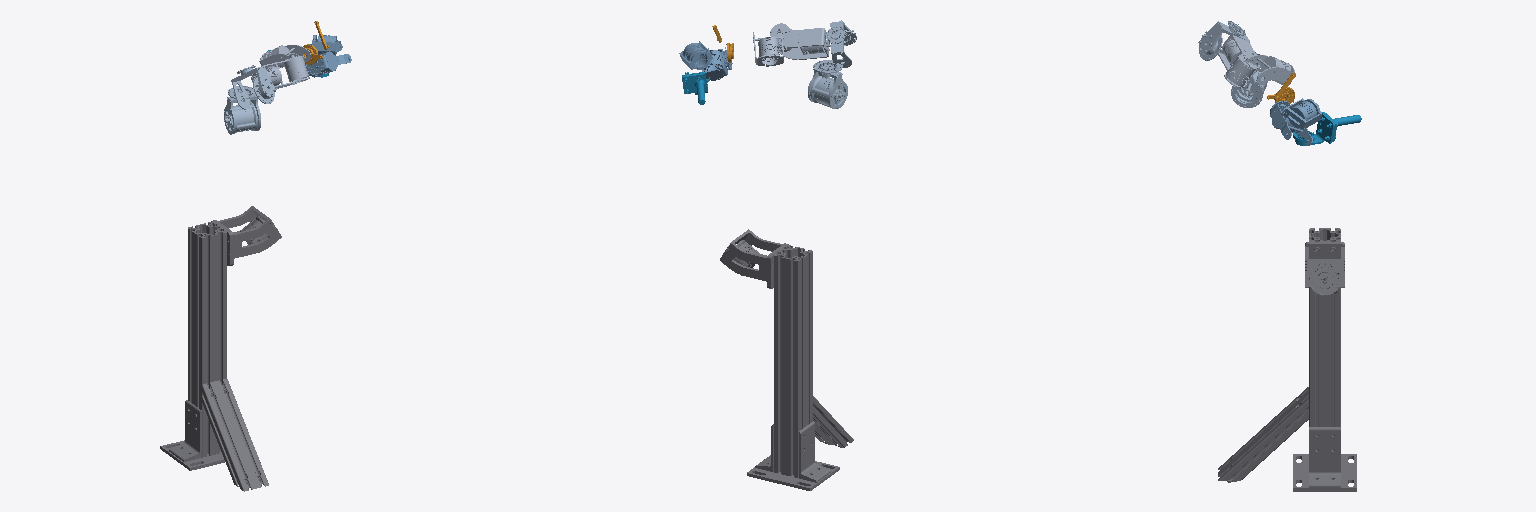
robot.urdf — arm01:
<?xml version="1.0"?>
<!--
================================================================================
arm01 design ledger
================================================================================
Robot      arm01: the 7-DOF MyActuator EtherCAT arm under test (right arm on a
           post stand).
Source     The CAD team's `full_assembly_urdf` export (14 Nov 2026, Onshape
           capture f7727994091b4cb0be86ce6f, audited inertials and harness),
           converted by tools/cad/import_full_assembly.py: renamed, re-based,
           tool frames added. Geometry, joint senses, zeros, limits and
           inertials are the export's. Regenerate with that script; do not
           hand-edit.
Consumers  Pinocchio (arm_stack model, sim, fits), robot_state_publisher /
           RViz, ros2_control (urdf/arm01/arm01.ros2_control.xacro), Isaac Lab
           (PACE, via `arm export pace`).
Units      metres, kilograms, radians. Meshes are binary STL in metres, one per
           link, in the link frame.

Names (export -> here)
  J1 shoulder_pitch, J2 shoulder_roll, J3 shoulder_yaw, J4 elbow,
  J5 forearm_yaw, output_pivot wrist_pitch, J7 wrist_yaw;
  J6 wrist_crank_joint and coupler_hinge wrist_rod_joint (mimics, below).
  shoulder_flexion link1, shoulder_abduction link2, upper_arm link3,
  forearm link4, wrist_base link5, wrist_output link6, tool_link link7,
  input_crank wrist_crank, coupler wrist_rod.

Frames
  base_link  origin at the top centre of the stand's post, CAD (0, 0, 541) mm;
             x forward (CAD -y), y to the robot's left (CAD +x), z up. The
             export's base is the CAD frame; the J1 origin and base_link's
             visual and inertial carry base = Rz(90 deg) (cad - [0 0 0.541]).
  linkN      the export's frames: z is joint N's axis.
  flange     J7 output face centre on the J7 axis, z out of the face toward
             the tool, x toward the peg.
  tool0      centre of the peg's end face (Ø20 mm PLA peg), z out of the tip,
             x perpendicular to the peg and the J7 axis. Fitted to the link7
             mesh.

Zero pose  The export's: q = 0 closes the wrist loop. The CAD capture is
           J1 80.80, J2 0.00, J3 3.30, J4 19.71, J5 -95.00, J6 28.04,
           J7 2.05 deg. The export maps its Onshape mate angles to these
           coordinates (sign, offset: J2 -1, J3 +3.911 deg, J4 -1 / -8.919
           deg); they are NOT encoder readings. `arm zero` and the zeroing jig
           set the encoder zeros, `arm bringup` the signs (joint config
           `direction`). Keep J1/J2 unwrapped through 180 deg.

Wrist      J6 turns a near-parallelogram (crank 41.75, coupler 70.0, ground
           69.89 mm): output / crank = 0.996..1.004 over +-35 deg. wrist_pitch
           is the output pivot, driven 1:1 by the J6 actuator here (error
           about 0.15 deg at the ends of travel); the crank and coupler are
           mimic joints of it (+1 / -1). Pinocchio locks the mimics and merges
           their 30 g into link5. The export's model.py has the exact loop.

Limits     The export's operating ranges: J1 [-90, 180], J2 [0, 190],
           J3 +-90, J4 [0, 130], J5 +-90, J6 +-35, J7 +-90 deg. They are not
           certified hardware stops: J1's stops are unverified, J2's lower
           contact is at -0.12 deg, J6's at -35.09 / +35.04 deg. Effort and
           velocity are the datasheet rated values. Stage 3 (`arm limits`)
           finds the hard stops and writes soft limits into the calibration
           file, not here.

Inertials  The export's audited model: 5052 sheet, 6061 billet, steel hardware,
           PLA peg (solid, 72 g), provisional actuator masses (X6 0.78, X4-36
           0.36, X4-10 0.33 kg), and a 178 g harness estimate. Moving mass
           3.918 kg. Weighed masses go in config/arms/arm01.yaml
           `link_masses_kg`; stage 5 fits each link's COM. base_link's
           inertial (fixture) is unused.

Geometry   visual = collision = the link's STL.
================================================================================
-->
<robot name="arm01">
  <link name="base_link">
    <inertial>
      <origin xyz="-0.0209881104 -0.0249459611 -0.3516912" rpy="0 -0 0" />
      <mass value="8.48834449972315" />
      <inertia ixx="0.507382807" ixy="0.00441255157" ixz="-0.0415048934" iyy="0.506022808" iyz="0.0643106163" izz="0.0659746181" />
    </inertial>
    <visual>
      <origin xyz="0 0 -0.541" rpy="0 -0 1.57079633" />
      <geometry>
        <mesh filename="package://wisco_ethercat_ros2_hw/urdf/arm01/meshes/base_link.stl" />
      </geometry>
      <material name="base_link_color">
        <color rgba="0.5 0.5 0.53 1" />
      </material>
    </visual>
    <collision>
      <origin xyz="0 0 -0.541" rpy="0 -0 1.57079633" />
      <geometry>
        <mesh filename="package://wisco_ethercat_ros2_hw/urdf/arm01/meshes/base_link.stl" />
      </geometry>
    </collision>
  </link>
  <link name="link1">
    <inertial>
      <origin xyz="6.28193363739031e-05 -0.000510001541366573 -0.0627447017792746" rpy="0 0 0" />
      <mass value="1.03954034843141" />
      <inertia ixx="0.00126854255312548" ixy="3.05291278326572e-06" ixz="7.55125566470251e-07" iyy="0.00115560047771092" iyz="-5.70812069926037e-06" izz="0.000911747596788102" />
    </inertial>
    <visual>
      <origin xyz="0 0 0" rpy="0 0 0" />
      <geometry>
        <mesh filename="package://wisco_ethercat_ros2_hw/urdf/arm01/meshes/link1.stl" />
      </geometry>
      <material name="link1_color">
        <color rgba="0.65 0.72 0.8 1" />
      </material>
    </visual>
    <collision>
      <origin xyz="0 0 0" rpy="0 0 0" />
      <geometry>
        <mesh filename="package://wisco_ethercat_ros2_hw/urdf/arm01/meshes/link1.stl" />
      </geometry>
    </collision>
  </link>
  <link name="link2">
    <inertial>
      <origin xyz="8.40187522635814e-05 0.0289708130780038 -0.020210697162382" rpy="0 0 0" />
      <mass value="0.224638262500978" />
      <inertia ixx="0.000456475944180333" ixy="4.44260229119375e-07" ixz="-2.7706406188814e-07" iyy="0.000300259134907002" iyz="7.9006691122891e-05" izz="0.000224319387305477" />
    </inertial>
    <visual>
      <origin xyz="0 0 0" rpy="0 0 0" />
      <geometry>
        <mesh filename="package://wisco_ethercat_ros2_hw/urdf/arm01/meshes/link2.stl" />
      </geometry>
      <material name="link2_color">
        <color rgba="0.65 0.72 0.8 1" />
      </material>
    </visual>
    <collision>
      <origin xyz="0 0 0" rpy="0 0 0" />
      <geometry>
        <mesh filename="package://wisco_ethercat_ros2_hw/urdf/arm01/meshes/link2.stl" />
      </geometry>
    </collision>
  </link>
  <link name="link3">
    <inertial>
      <origin xyz="-0.000884860251041079 0.0123306139737281 -0.0753817522063616" rpy="0 0 0" />
      <mass value="0.955428515370027" />
      <inertia ixx="0.00259766559360135" ixy="2.3466014962175e-06" ixz="-4.07107954950693e-05" iyy="0.00258521461111198" iyz="0.000561982262328355" izz="0.000702966100318948" />
    </inertial>
    <visual>
      <origin xyz="0 0 0" rpy="0 0 0" />
      <geometry>
        <mesh filename="package://wisco_ethercat_ros2_hw/urdf/arm01/meshes/link3.stl" />
      </geometry>
      <material name="link3_color">
        <color rgba="0.68 0.73 0.8 1" />
      </material>
    </visual>
    <collision>
      <origin xyz="0 0 0" rpy="0 0 0" />
      <geometry>
        <mesh filename="package://wisco_ethercat_ros2_hw/urdf/arm01/meshes/link3.stl" />
      </geometry>
    </collision>
  </link>
  <link name="link4">
    <inertial>
      <origin xyz="0.025003990750778 0.0555249203142339 -0.0308501339841859" rpy="0 0 0" />
      <mass value="0.506322819610221" />
      <inertia ixx="0.000524712049443047" ixy="-6.32790707470935e-05" ixz="1.49420144284315e-05" iyy="0.000314515071861158" iyz="3.19308009244638e-05" izz="0.000432180418077225" />
    </inertial>
    <visual>
      <origin xyz="0 0 0" rpy="0 0 0" />
      <geometry>
        <mesh filename="package://wisco_ethercat_ros2_hw/urdf/arm01/meshes/link4.stl" />
      </geometry>
      <material name="link4_color">
        <color rgba="0.68 0.73 0.8 1" />
      </material>
    </visual>
    <collision>
      <origin xyz="0 0 0" rpy="0 0 0" />
      <geometry>
        <mesh filename="package://wisco_ethercat_ros2_hw/urdf/arm01/meshes/link4.stl" />
      </geometry>
    </collision>
  </link>
  <link name="link5">
    <inertial>
      <origin xyz="-0.00300480967441928 -0.000442759553258613 -0.0372032297307027" rpy="0 0 0" />
      <mass value="0.487429133738675" />
      <inertia ixx="0.000315862616675246" ixy="-6.20850229960958e-06" ixz="-1.16338046149474e-05" iyy="0.000423183155760322" iyz="-6.22522109046e-08" izz="0.000263835038145093" />
    </inertial>
    <visual>
      <origin xyz="0 0 0" rpy="0 0 0" />
      <geometry>
        <mesh filename="package://wisco_ethercat_ros2_hw/urdf/arm01/meshes/link5.stl" />
      </geometry>
      <material name="link5_color">
        <color rgba="0.5 0.63 0.75 1" />
      </material>
    </visual>
    <collision>
      <origin xyz="0 0 0" rpy="0 0 0" />
      <geometry>
        <mesh filename="package://wisco_ethercat_ros2_hw/urdf/arm01/meshes/link5.stl" />
      </geometry>
    </collision>
  </link>
  <link name="wrist_crank">
    <inertial>
      <origin xyz="-0.00943964051682924 -6.77168358008667e-09 -0.00261924023607058" rpy="0 0 0" />
      <mass value="0.0142187791796307" />
      <inertia ixx="1.17393834304399e-06" ixy="-2.88802677271492e-12" ixz="-4.72976356126276e-09" iyy="4.46638597948988e-06" iyz="-4.2775810392593e-13" izz="5.57116929256228e-06" />
    </inertial>
    <visual>
      <origin xyz="0 0 0" rpy="0 0 0" />
      <geometry>
        <mesh filename="package://wisco_ethercat_ros2_hw/urdf/arm01/meshes/wrist_crank.stl" />
      </geometry>
      <material name="wrist_crank_color">
        <color rgba="0.85 0.6 0.24 1" />
      </material>
    </visual>
    <collision>
      <origin xyz="0 0 0" rpy="0 0 0" />
      <geometry>
        <mesh filename="package://wisco_ethercat_ros2_hw/urdf/arm01/meshes/wrist_crank.stl" />
      </geometry>
    </collision>
  </link>
  <link name="wrist_rod">
    <inertial>
      <origin xyz="0.0164044135483392 0.0309174043788142 -0.00306837268587808" rpy="0 0 0" />
      <mass value="0.0155711739254297" />
      <inertia ixx="9.1851100665474e-06" ixy="-4.77668200312659e-06" ixz="4.80077557867517e-12" iyy="2.71692989941013e-06" iyz="1.21734164600643e-11" izz="1.17825733794848e-05" />
    </inertial>
    <visual>
      <origin xyz="0 0 0" rpy="0 0 0" />
      <geometry>
        <mesh filename="package://wisco_ethercat_ros2_hw/urdf/arm01/meshes/wrist_rod.stl" />
      </geometry>
      <material name="wrist_rod_color">
        <color rgba="0.85 0.6 0.24 1" />
      </material>
    </visual>
    <collision>
      <origin xyz="0 0 0" rpy="0 0 0" />
      <geometry>
        <mesh filename="package://wisco_ethercat_ros2_hw/urdf/arm01/meshes/wrist_rod.stl" />
      </geometry>
    </collision>
  </link>
  <link name="link6">
    <inertial>
      <origin xyz="0.000709485579475247 -0.0010031677109319 0.0343378638717342" rpy="0 0 0" />
      <mass value="0.442574975466571" />
      <inertia ixx="0.000234683542219092" ixy="-3.24564112967087e-05" ixz="-2.88862442222168e-06" iyy="0.000259042968286654" iyz="-1.43324337717524e-06" izz="0.0002489360375543" />
    </inertial>
    <visual>
      <origin xyz="0 0 0" rpy="0 0 0" />
      <geometry>
        <mesh filename="package://wisco_ethercat_ros2_hw/urdf/arm01/meshes/link6.stl" />
      </geometry>
      <material name="link6_color">
        <color rgba="0.5 0.63 0.75 1" />
      </material>
    </visual>
    <collision>
      <origin xyz="0 0 0" rpy="0 0 0" />
      <geometry>
        <mesh filename="package://wisco_ethercat_ros2_hw/urdf/arm01/meshes/link6.stl" />
      </geometry>
    </collision>
  </link>
  <link name="link7">
    <inertial>
      <origin xyz="0.00867923115887527 0.0532843695444002 0.0175173922152606" rpy="0 0 0" />
      <mass value="0.231917717710317" />
      <inertia ixx="0.000417793921610081" ixy="-7.46815622461728e-06" ixz="-2.05312858297144e-05" iyy="0.000166432314133193" iyz="-0.000100101566329267" izz="0.000382581839170079" />
    </inertial>
    <visual>
      <origin xyz="0 0 0" rpy="0 0 0" />
      <geometry>
        <mesh filename="package://wisco_ethercat_ros2_hw/urdf/arm01/meshes/link7.stl" />
      </geometry>
      <material name="link7_color">
        <color rgba="0.18 0.58 0.75 1" />
      </material>
    </visual>
    <collision>
      <origin xyz="0 0 0" rpy="0 0 0" />
      <geometry>
        <mesh filename="package://wisco_ethercat_ros2_hw/urdf/arm01/meshes/link7.stl" />
      </geometry>
    </collision>
  </link>
  <joint name="shoulder_pitch" type="revolute">
    <parent link="base_link" />
    <child link="link1" />
    <origin xyz="-0.000156330126 -0.188873205 -0.0333247018" rpy="2.0943951 4.98352458e-15 -3.14159265" />
    <axis xyz="0 0 1" />
    <limit lower="-1.0471975511965976" upper="4.1887902047863905" effort="20" velocity="16.022122533307947" />
  </joint>
  <joint name="shoulder_roll" type="revolute">
    <parent link="link1" />
    <child link="link2" />
    <origin xyz="-4.07603069629836e-08 -0.0352502330739208 -0.0698001490458872" rpy="1.5707963267949 -1.0471975511966 -1.02880735442697e-15" />
    <axis xyz="0 0 1" />
    <limit lower="0.0" upper="3.3161255787892263" effort="20" velocity="16.022122533307947" />
  </joint>
  <joint name="shoulder_yaw" type="revolute">
    <parent link="link2" />
    <child link="link3" />
    <origin xyz="1.2839831583511e-06 0.066000292767543 -0.0353065721306212" rpy="-1.5707963267949 -0.0682598270454991 -3.14159265358979" />
    <axis xyz="0 0 1" />
    <limit lower="-1.5707963267948966" upper="1.5707963267948966" effort="10.5" velocity="8.691739674931762" />
  </joint>
  <joint name="elbow" type="revolute">
    <parent link="link3" />
    <child link="link4" />
    <origin xyz="0.0300471412868477 0.0296229881593858 -0.123999999999999" rpy="-1.57079632679486 0.087266462599717 -1.50240475949108" />
    <axis xyz="0 0 1" />
    <limit lower="0.0" upper="2.2689280275926285" effort="10.5" velocity="8.691739674931762" />
  </joint>
  <joint name="forearm_yaw" type="revolute">
    <parent link="link4" />
    <child link="link5" />
    <origin xyz="0.0275406812647838 0.0920000029569688 -0.0319999999999996" rpy="1.5707963267949 -2.23735517675913e-16 -4.93329232006911e-16" />
    <axis xyz="0 0 1" />
    <limit lower="-1.5707963267948966" upper="1.5707963267948966" effort="10.5" velocity="8.691739674931762" />
  </joint>
  <joint name="wrist_crank_joint" type="revolute">
    <parent link="link5" />
    <child link="wrist_crank" />
    <origin xyz="-0.0282499999999997 -3.7470027081099e-15 -0.0379999999999939" rpy="-1.57079632679489 -1.86502989730315e-14 -1.5707963267949" />
    <axis xyz="0 0 1" />
    <limit lower="-0.6108652381980153" upper="0.6108652381980153" effort="4" velocity="24.923301718479024" />
    <mimic joint="wrist_pitch" multiplier="1" offset="0" />
  </joint>
  <joint name="wrist_rod_joint" type="revolute">
    <parent link="wrist_crank" />
    <child link="wrist_rod" />
    <origin xyz="-0.0417499999999999 2.77555756156289e-16 -0.00542500000000007" rpy="-8.42367149530332e-20 6.09003849150813e-19 0.487817121901269" />
    <axis xyz="0 0 1" />
    <limit lower="-0.6108652381980153" upper="0.6108652381980153" effort="4" velocity="24.923301718479024" />
    <mimic joint="wrist_pitch" multiplier="-1" offset="0" />
  </joint>
  <joint name="wrist_pitch" type="revolute">
    <parent link="link5" />
    <child link="link6" />
    <origin xyz="-0.0342749999999999 1.38777878078145e-16 -0.1078" rpy="-1.5707963267949 -0.488702840013189 -1.5707963267949" />
    <axis xyz="0 0 1" />
    <limit lower="-0.6108652381980153" upper="0.6108652381980153" effort="4" velocity="24.923301718479024" />
  </joint>
  <joint name="wrist_yaw" type="revolute">
    <parent link="link6" />
    <child link="link7" />
    <origin xyz="0.0248492320645589 0.0134394257988117 0.0342750000000006" rpy="0.488702840013303 -1.5707963267949 0" />
    <axis xyz="0 0 1" />
    <limit lower="-1.5707963267948966" upper="1.5707963267948966" effort="4" velocity="24.923301718479024" />
  </joint>
  <joint name="flange_joint" type="fixed">
    <parent link="link7" />
    <child link="flange" />
    <origin xyz="0 0 0.005243" rpy="0 -0 1.57188929" />
  </joint>
  <link name="flange" />
  <joint name="tool0_joint" type="fixed">
    <parent link="link7" />
    <child link="tool0" />
    <origin xyz="6.0429933e-05 0.162726218 0.0283422283" rpy="-1.57205658 1.37740818e-06 0.00109296135" />
  </joint>
  <link name="tool0" />
</robot>

--- What the picture shows (computed from the rendered views, not written in the file) ---
The picture shows the robot from 3 angles, left to right: view 1: azimuth 30°, elevation 25°; view 2: azimuth 150°, elevation 25°; view 3: azimuth 270°, elevation 25°; orthographic projection.
Robot: arm01 — 12 links, 11 joints (9 revolute, 2 fixed); root link base_link; default pose: every joint at zero.
Links seen in each view (by area): view 1: base_link, link1, link2, link3, link4, link5; view 2: base_link, link3, link1, link2, link4, link6, link5, link7; view 3: base_link, link3, link2, link4, link7, link6, link1, link5.
Link boxes in pixels (box(x1,y1,x2,y2)): base_link: box(160, 206, 281, 491); link1: box(224, 86, 260, 134); link2: box(231, 65, 275, 109); link3: box(251, 55, 309, 94); link4: box(259, 45, 310, 68); link5: box(305, 51, 351, 77); base_link: box(720, 229, 853, 490); link3: box(770, 23, 853, 59); link1: box(808, 60, 847, 108); link2: box(826, 20, 856, 67); link4: box(753, 27, 783, 66); link6: box(679, 41, 712, 69); link5: box(702, 49, 732, 80); link7: box(682, 72, 709, 104); base_link: box(1218, 228, 1356, 491); link3: box(1218, 34, 1259, 88); link2: box(1198, 21, 1249, 60); link4: box(1243, 55, 1295, 85); link7: box(1293, 112, 1361, 145); link6: box(1281, 98, 1322, 129); link1: box(1231, 52, 1267, 107); link5: box(1270, 101, 1312, 145).
Size in the robot's own frame: 0.4944 by 0.4071 by 1.26 metres.
10 mesh visuals loaded from 10 distinct referenced files (10 binary STL).
